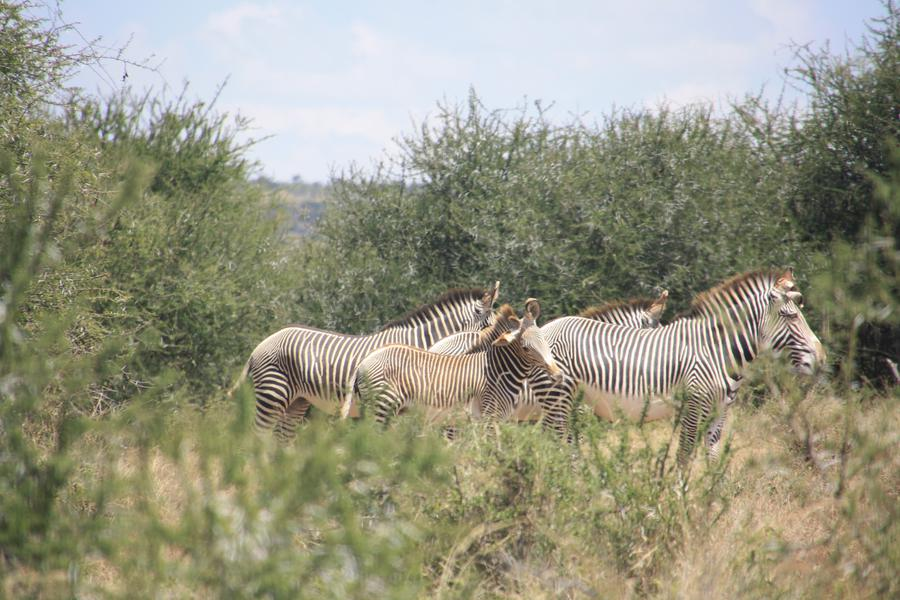zebra_grevys: (362, 350, 511, 407)
